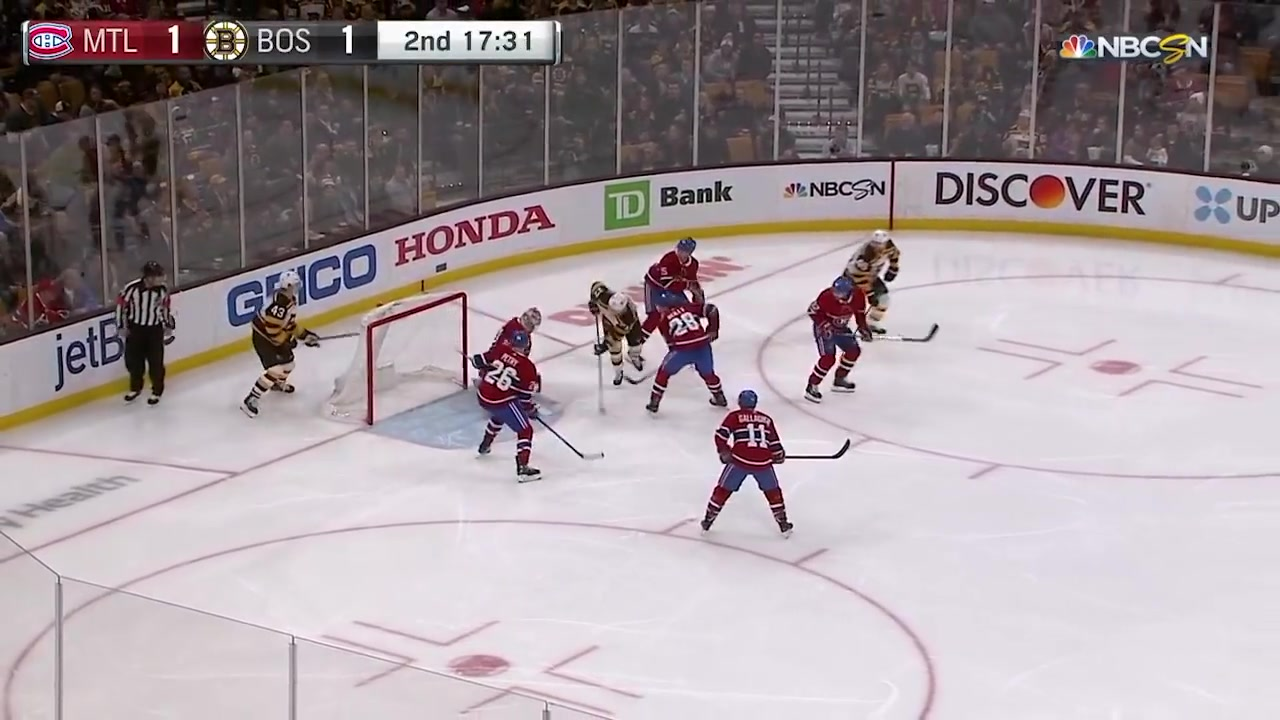geico: (218, 253, 386, 333)
